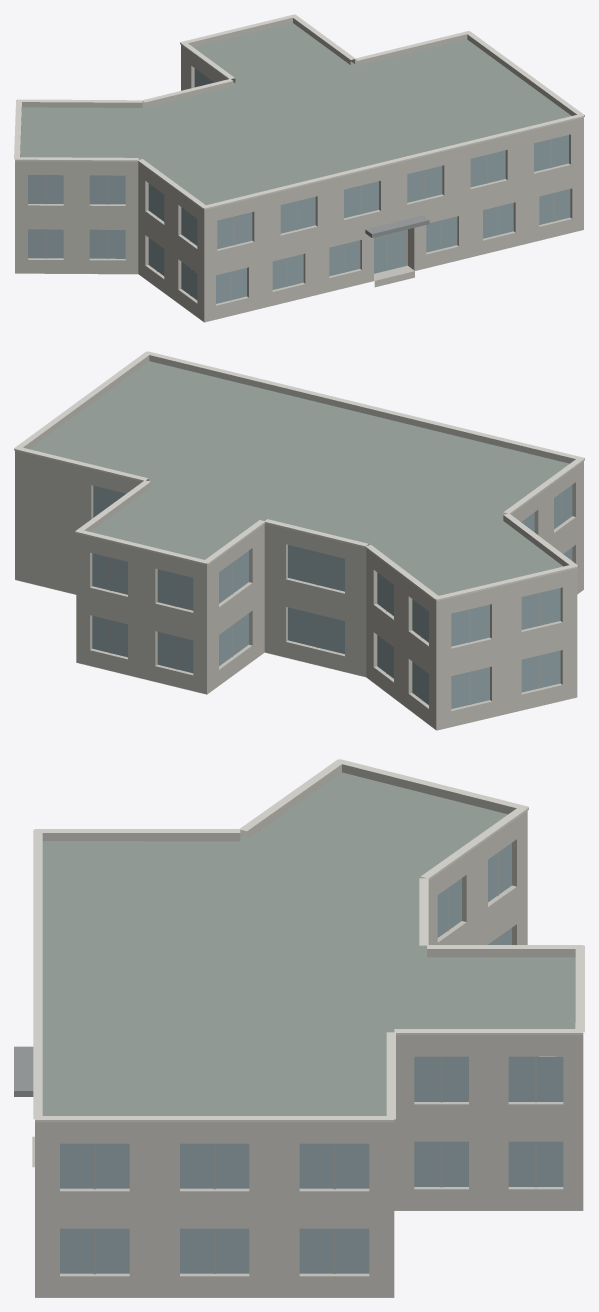
3 renders of one model, top to bottom at view 1: azimuth 30°, elevation 25°; view 2: azimuth 150°, elevation 25°; view 3: azimuth 270°, elevation 25°, orthographic. The views are drawn at different scales.
Visible parts, largest first — view 1: b743648657__roof, b743648657__wall, b743648657__glass, b743648657__trim, b743648657__parapet, b743648657__frame, b743648657__canopy, b743648657__entranceThreshold_0; view 2: b743648657__roof, b743648657__wall, b743648657__glass, b743648657__trim, b743648657__parapet, b743648657__frame; view 3: b743648657__roof, b743648657__wall, b743648657__glass, b743648657__trim, b743648657__parapet, b743648657__frame, b743648657__canopy.
Part boxes in pixels (x1=…): b743648657__roof: x1=15, y1=23, x2=583, y2=322; b743648657__wall: x1=15, y1=48, x2=583, y2=322; b743648657__glass: x1=28, y1=68, x2=570, y2=303; b743648657__trim: x1=14, y1=14, x2=584, y2=209; b743648657__parapet: x1=15, y1=17, x2=583, y2=213; b743648657__frame: x1=45, y1=78, x2=554, y2=300; b743648657__canopy: x1=365, y1=215, x2=429, y2=237; b743648657__entranceThreshold_0: x1=374, y1=265, x2=414, y2=287; b743648657__roof: x1=16, y1=361, x2=583, y2=730; b743648657__wall: x1=15, y1=454, x2=583, y2=730; b743648657__glass: x1=92, y1=485, x2=572, y2=708; b743648657__trim: x1=14, y1=351, x2=584, y2=601; b743648657__parapet: x1=15, y1=355, x2=583, y2=605; b743648657__frame: x1=110, y1=490, x2=562, y2=704; b743648657__roof: x1=35, y1=772, x2=582, y2=1297; b743648657__wall: x1=35, y1=815, x2=583, y2=1297; b743648657__glass: x1=60, y1=843, x2=563, y2=1273; b743648657__trim: x1=33, y1=759, x2=584, y2=1122; b743648657__parapet: x1=35, y1=764, x2=583, y2=1127; b743648657__frame: x1=93, y1=852, x2=536, y2=1274; b743648657__canopy: x1=14, y1=1046, x2=33, y2=1096.
Bounding box in the file's own units: 32.78 × 7.95 × 21.92.
